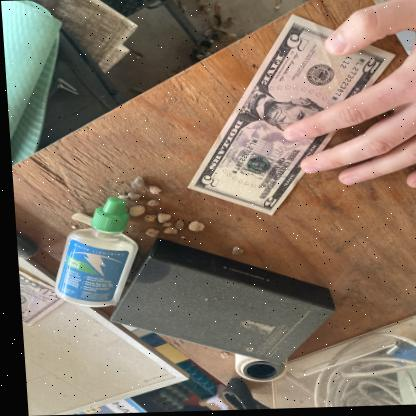five-front: (183, 16, 403, 218)
